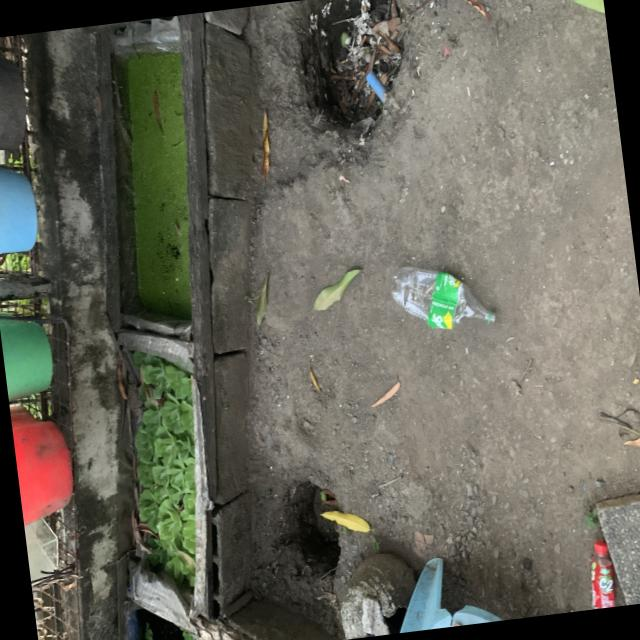Bottle: (391, 267, 494, 328)
